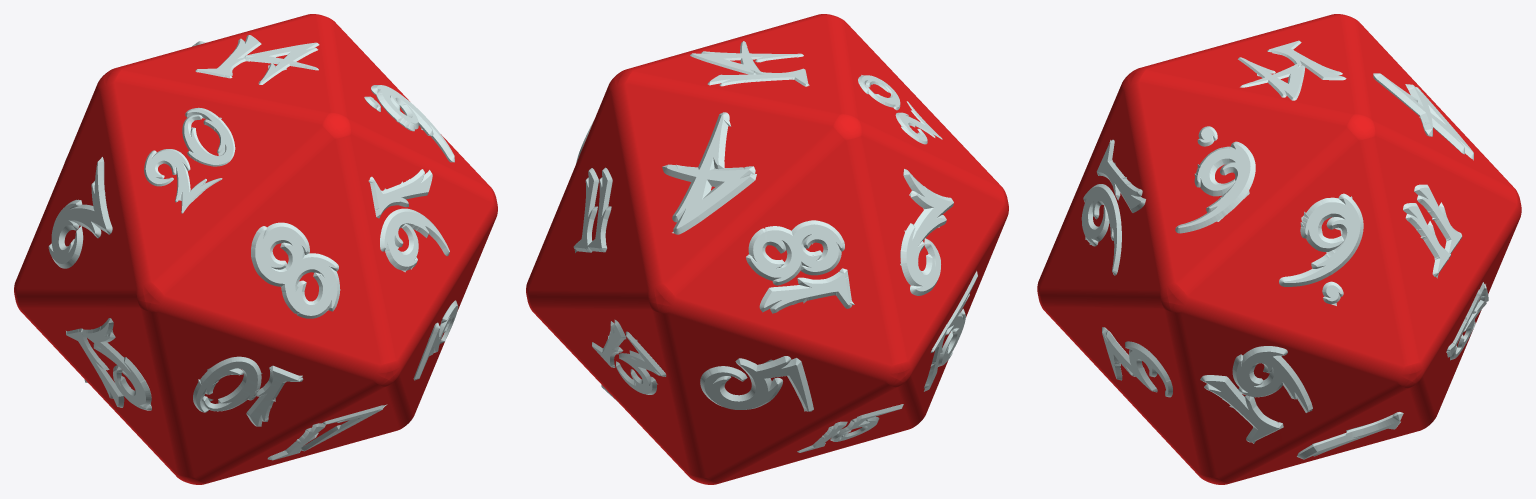
Rendered from D20_3D_Red.glb.
3 renders of one model, left to right at view 1: azimuth 30°, elevation 25°; view 2: azimuth 150°, elevation 25°; view 3: azimuth 270°, elevation 25°, orthographic.
Visible parts, largest first — view 1: d20; view 2: d20; view 3: d20.
Part boxes in pixels (x1,y1,x2,y2): d20: [14, 14, 497, 484]; d20: [526, 14, 1008, 484]; d20: [1037, 14, 1521, 484].
Bounding box in the file's own units: 1.74 × 1.61 × 1.91.
